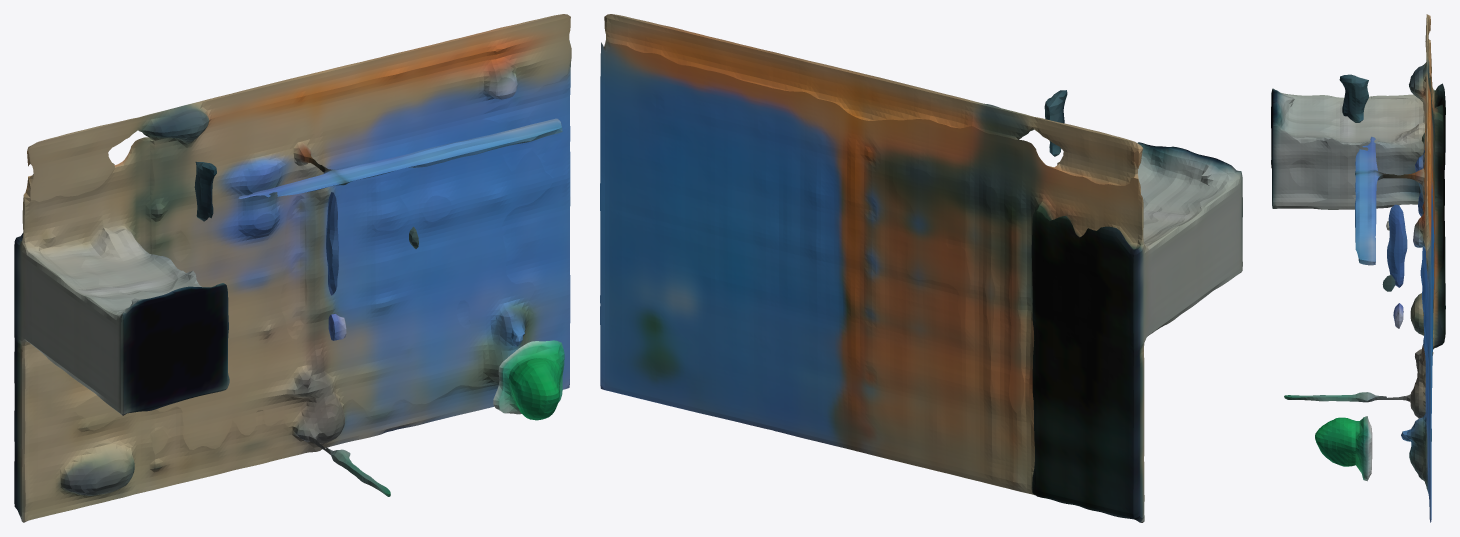
Rendered from 20251031T184723Z_ShapE_79aec03e60de.glb.
3 renders of one model, left to right at view 1: azimuth 30°, elevation 25°; view 2: azimuth 150°, elevation 25°; view 3: azimuth 270°, elevation 25°, orthographic. The views are drawn at different scales.
Parts seen in each view (by area): view 1: model.ply; view 2: model.ply; view 3: model.ply.
Part boxes in pixels (x1,y1,x2,y2): model.ply: (14,14,571,522); model.ply: (600,14,1242,522); model.ply: (1271,14,1445,522).
Bounding box in the file's own units: 1.98 × 1.32 × 0.687.
